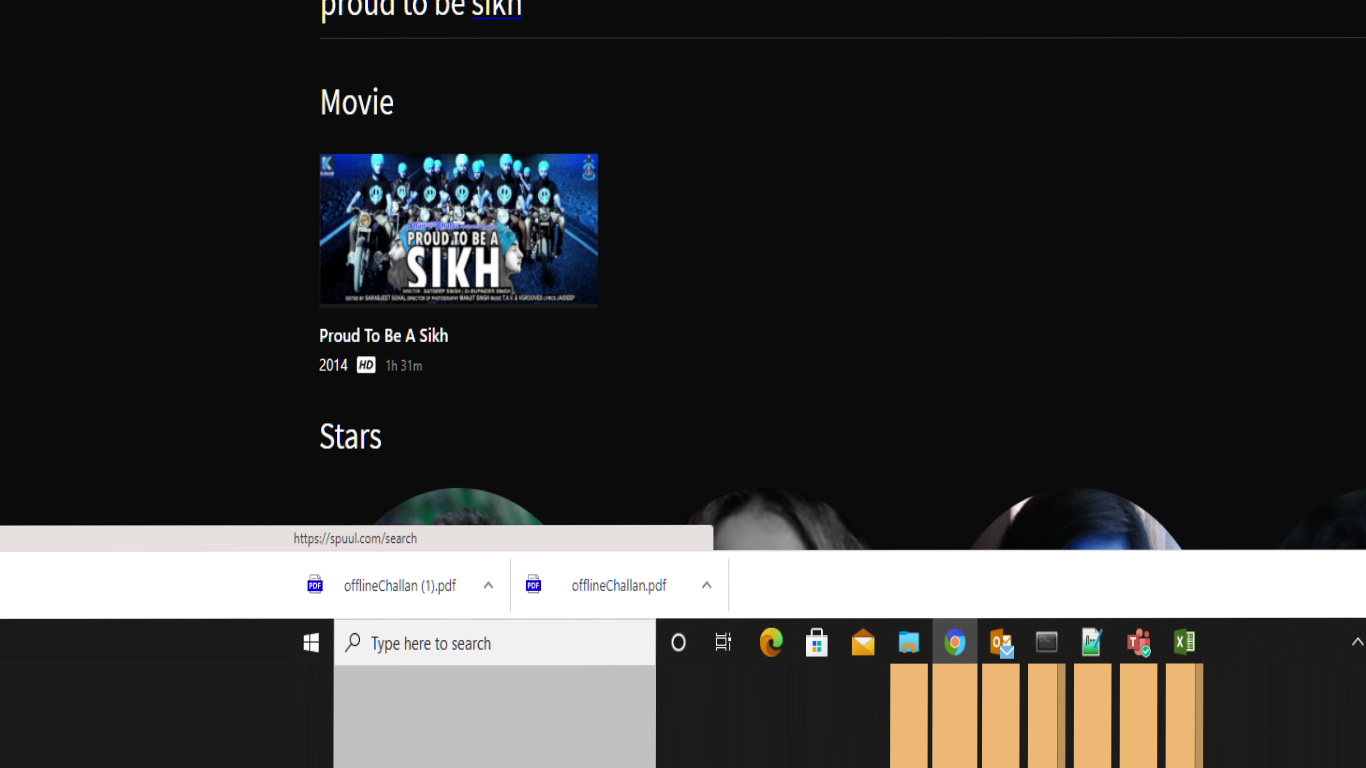resultsfound: (309, 67, 470, 137)
searchtextbox: (316, 5, 1319, 45)
